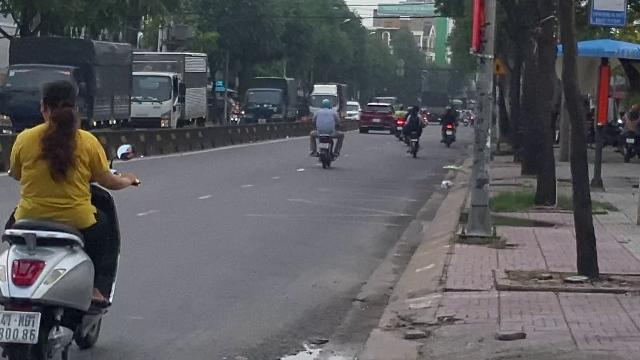licenseplate: (0, 310, 40, 342)
motorcyclist: (0, 70, 134, 360)
nohelmet: (37, 74, 81, 132)
